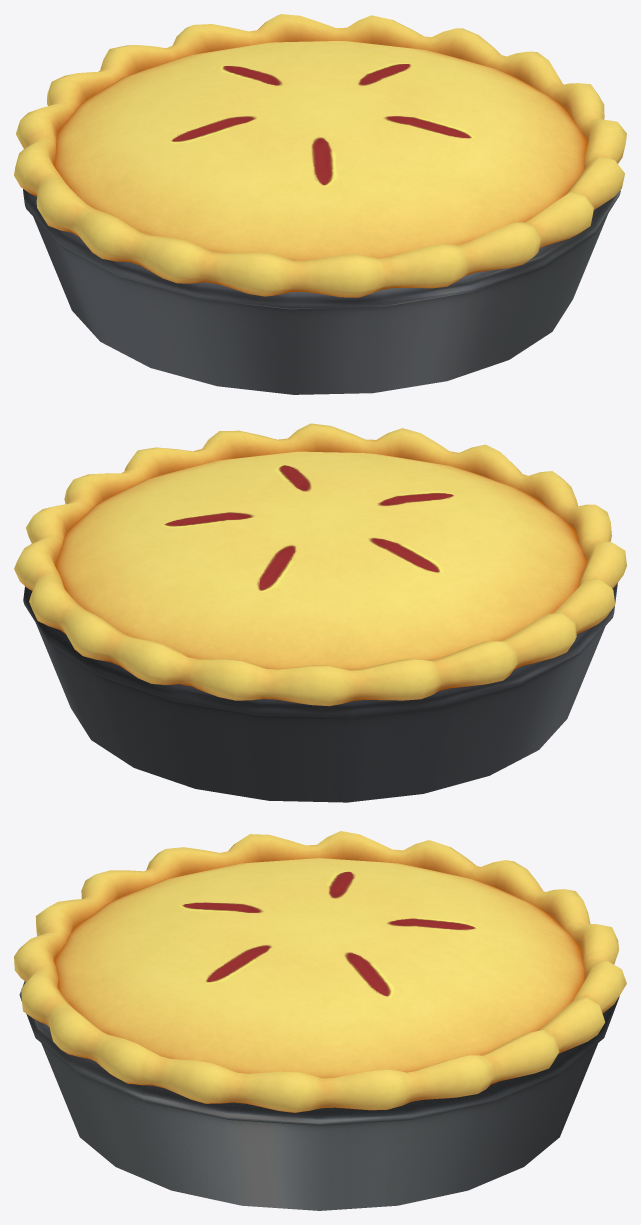
File: pie postre.glb
3 views of the same model, one above another, from view 1: azimuth 30°, elevation 25°; view 2: azimuth 150°, elevation 25°; view 3: azimuth 270°, elevation 25° (orthographic).
Visible parts, largest first — view 1: Pie; view 2: Pie; view 3: Pie.
Boxes of the visible parts, left/top/right/bottom form: Pie: left=14, top=14, right=626, bottom=394; Pie: left=14, top=423, right=626, bottom=802; Pie: left=14, top=831, right=626, bottom=1210.
Bounding box in the file's own units: 2.15 × 0.6937 × 2.15.
Materials: 1 (1 with a texture image).
